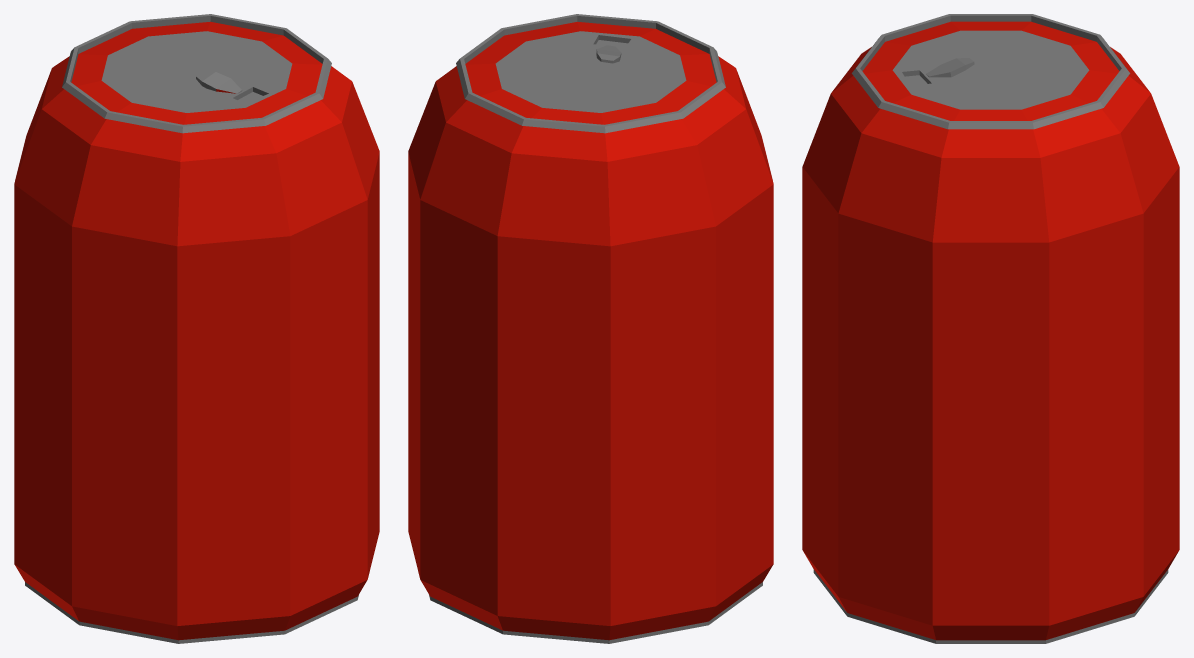
File: LataGaseosa.glb
The picture shows the model from 3 angles, left to right: view 1: azimuth 30°, elevation 25°; view 2: azimuth 150°, elevation 25°; view 3: azimuth 270°, elevation 25°; orthographic projection.
Parts seen in each view (by area): view 1: lata gaseosa; view 2: lata gaseosa; view 3: lata gaseosa.
Part boxes in pixels (x1,y1,x2,y2): lata gaseosa: (14,14,379,643); lata gaseosa: (408,14,773,643); lata gaseosa: (802,14,1179,643).
Size of the model in its own units: 0.7445 by 1.17 by 0.7828.
